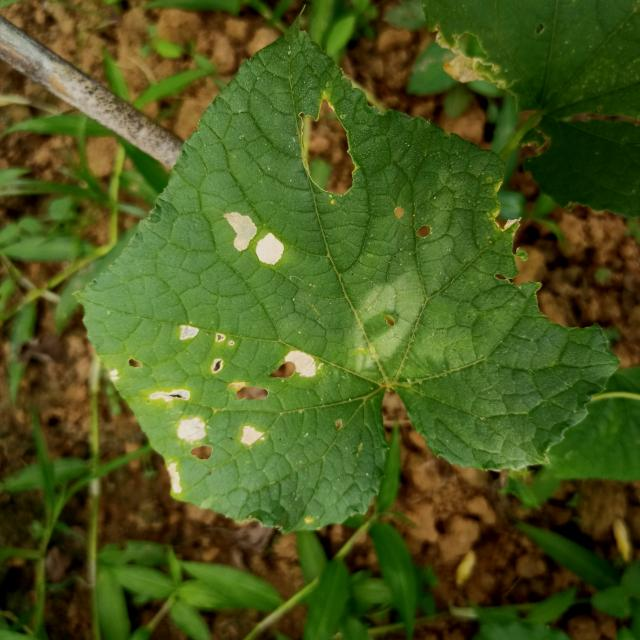disease_cucumber: (148, 325, 314, 494), (224, 213, 283, 265)
